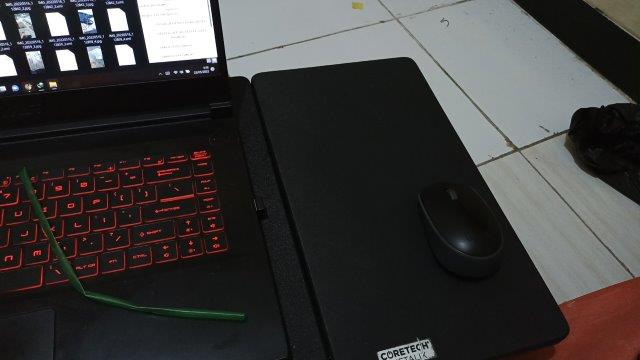sedotan: (20, 171, 242, 320)
